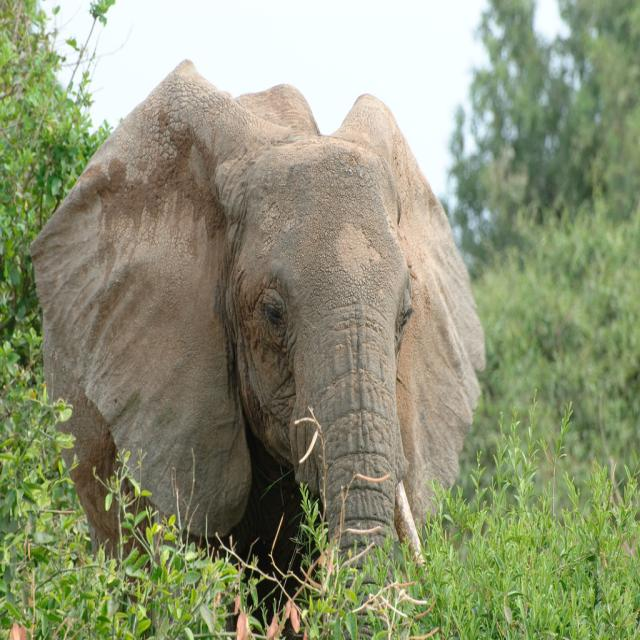Elephant: (31, 52, 486, 640)
